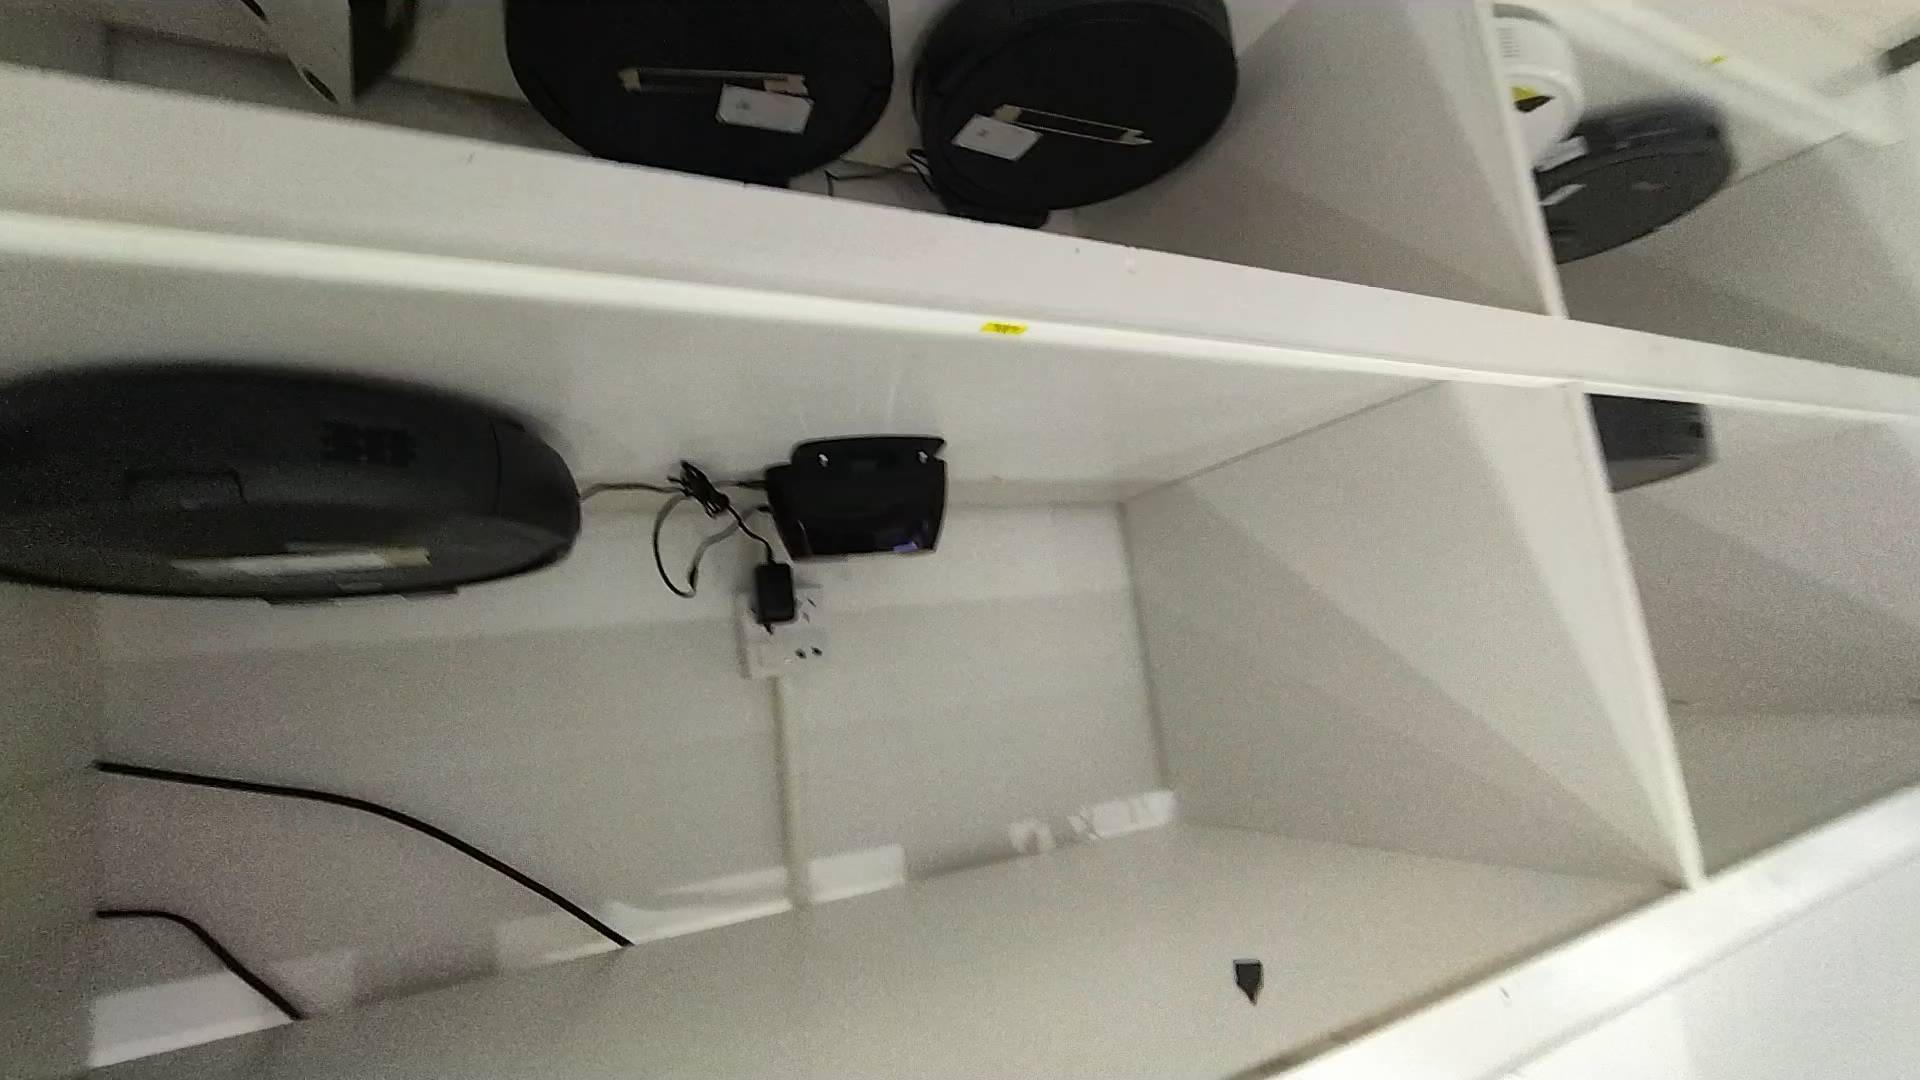recharge seat: (769, 438, 953, 566)
